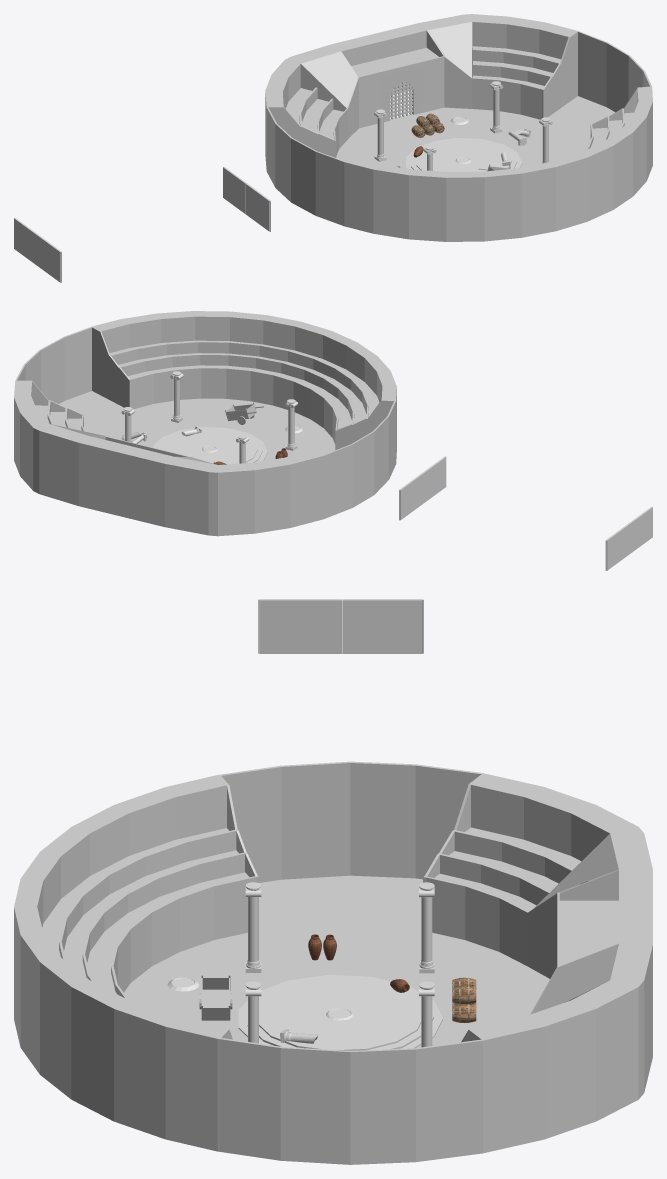
File: Coliseumwithinterior5.fbx
3 renders of one model, top to bottom at view 1: azimuth 30°, elevation 25°; view 2: azimuth 150°, elevation 25°; view 3: azimuth 270°, elevation 25°, orthographic. The views are drawn at different scales.
Visible parts, largest first — view 1: Wall, Door, Staircase, Gate, Pillar.002, Pillar; view 2: Wall, Door, Staircase, Wagon, Pillar.003; view 3: Wall, Staircase, Door, Wagon, Pillar, Pillar.003, Pillar.002.
Boxes of the visible parts, box(x1,y1,x2,y2) form: Wall: box(265, 14, 652, 241); Door: box(14, 166, 270, 282); Staircase: box(406, 138, 522, 171); Gate: box(390, 82, 413, 119); Pillar.002: box(489, 81, 503, 133); Pillar: box(374, 109, 387, 161); Wall: box(14, 311, 396, 536); Door: box(399, 456, 652, 570); Staircase: box(153, 427, 267, 464); Wagon: box(225, 402, 264, 424); Pillar.003: box(285, 399, 298, 450); Wall: box(14, 761, 652, 1164); Staircase: box(238, 975, 442, 1050); Door: box(258, 599, 423, 653); Wagon: box(199, 968, 232, 1020); Pillar: box(419, 882, 434, 973); Pillar.003: box(245, 882, 261, 972); Pillar.002: box(419, 981, 434, 1047).
Size of the model in its own units: 4128 by 441 by 2185.
